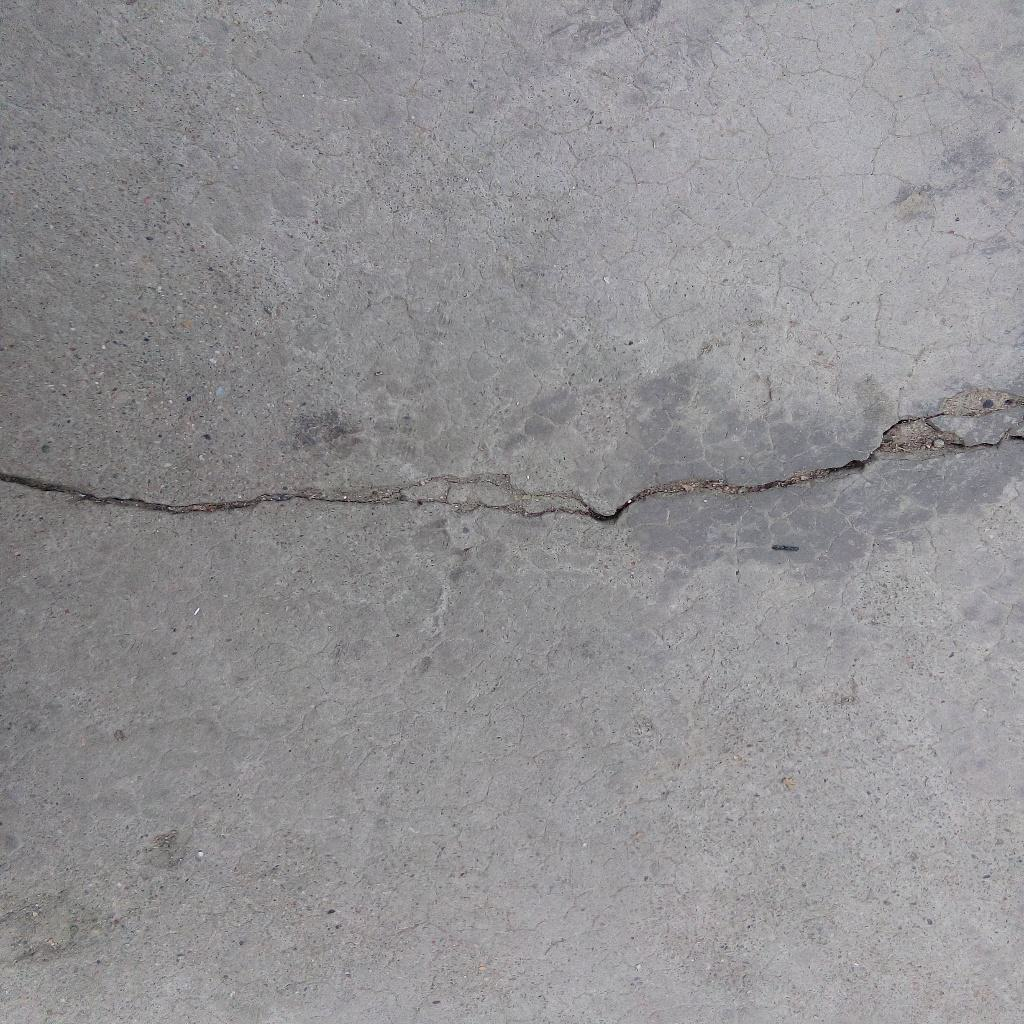Crack: (1, 393, 1024, 525)
